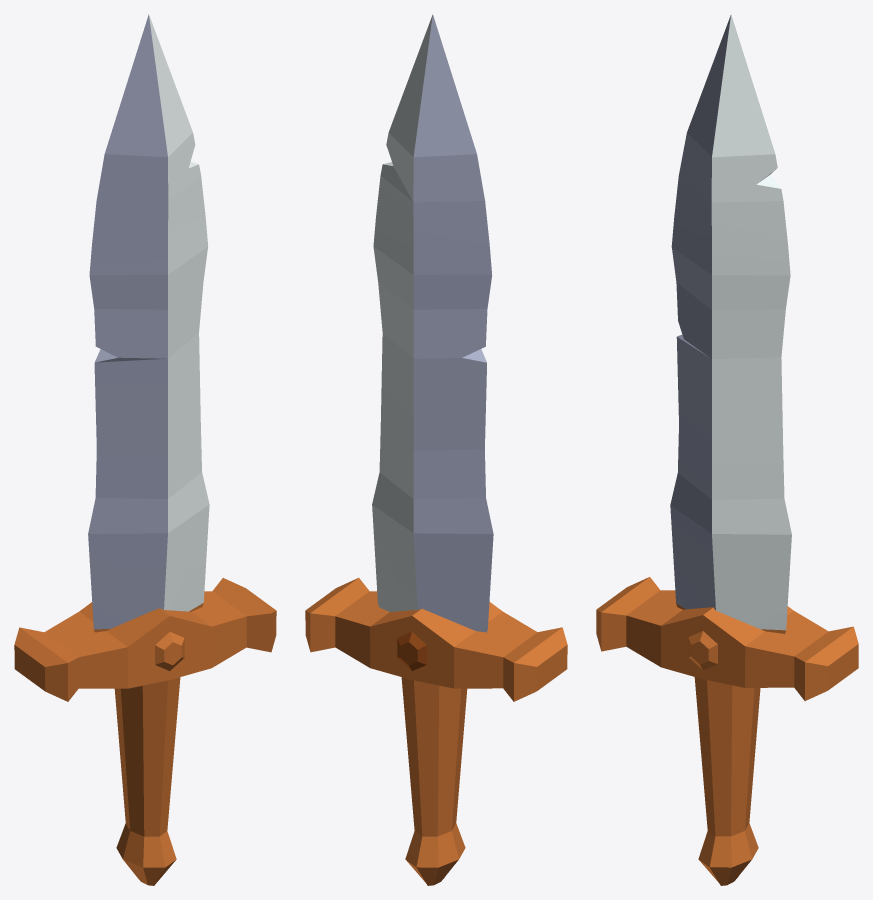
File: Gator Siege_sword1.fbx
The picture shows the model from 3 angles, left to right: view 1: azimuth 30°, elevation 25°; view 2: azimuth 150°, elevation 25°; view 3: azimuth 330°, elevation 25°; orthographic projection.
Parts seen in each view (by area): view 1: sword 1; view 2: sword 1; view 3: sword 1.
Boxes of the visible parts, bbox=[...] form: sword 1: bbox=[14, 14, 276, 885]; sword 1: bbox=[305, 14, 567, 885]; sword 1: bbox=[596, 14, 858, 885].
Bounding box in the file's own units: 0.054 × 0.0222 × 0.1929.
